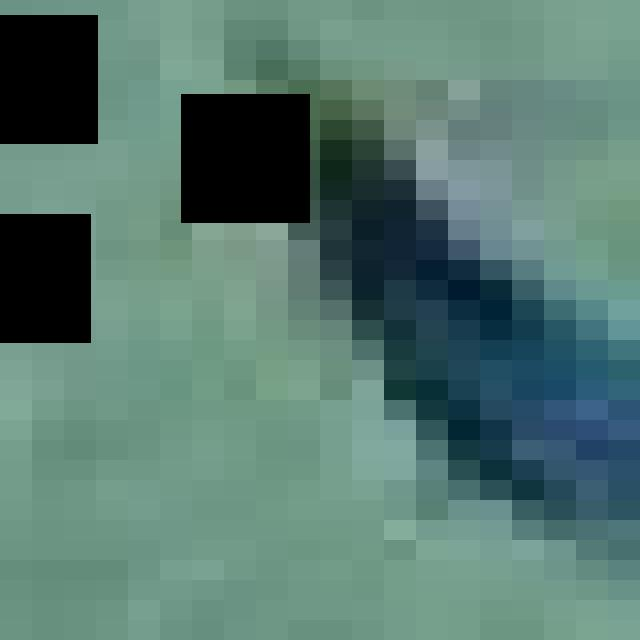fish: (32, 20, 640, 640)
